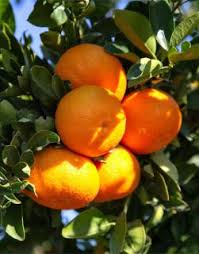orange: (29, 141, 99, 216), (51, 87, 124, 153), (51, 38, 127, 101), (123, 87, 182, 156), (88, 148, 143, 204)
